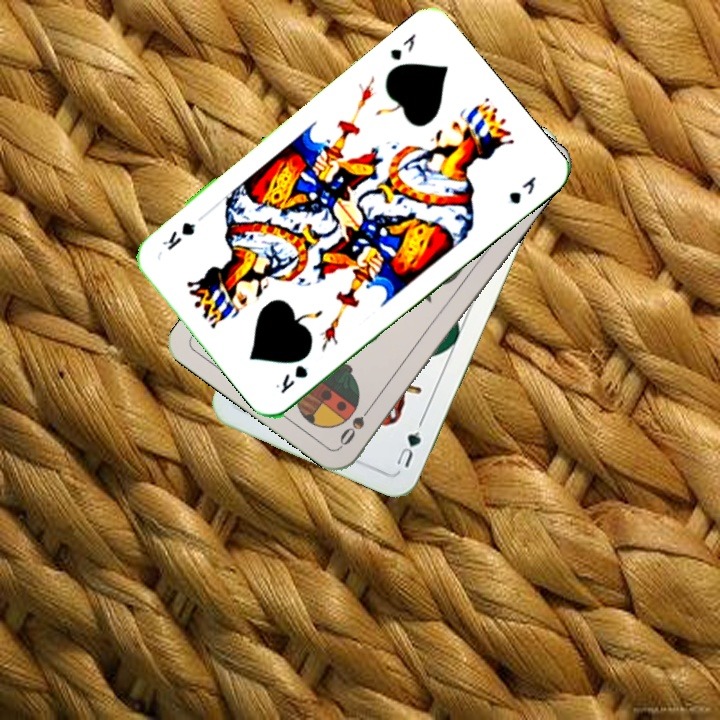GK: (276, 361, 311, 396), (386, 29, 419, 64)
GU: (392, 417, 426, 470)
SO: (335, 398, 377, 449)
